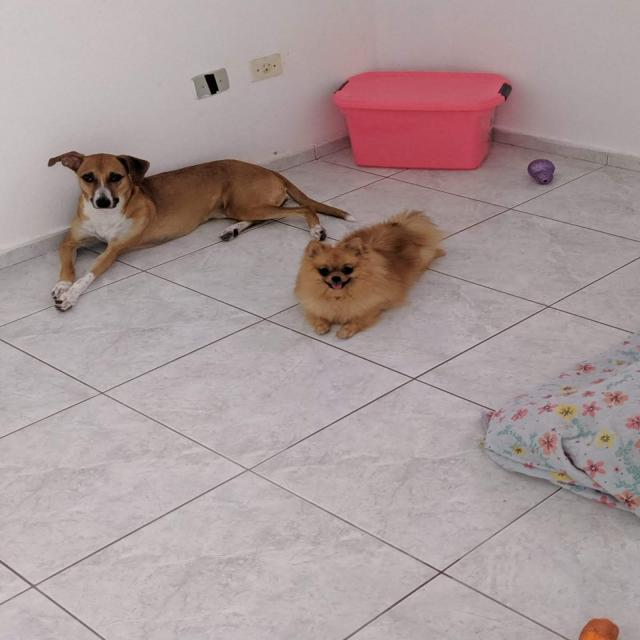laying down: (28, 146, 355, 310), (285, 210, 451, 339)
